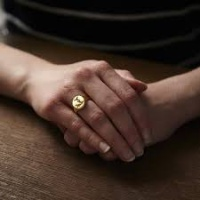ring: (60, 98, 113, 136)
